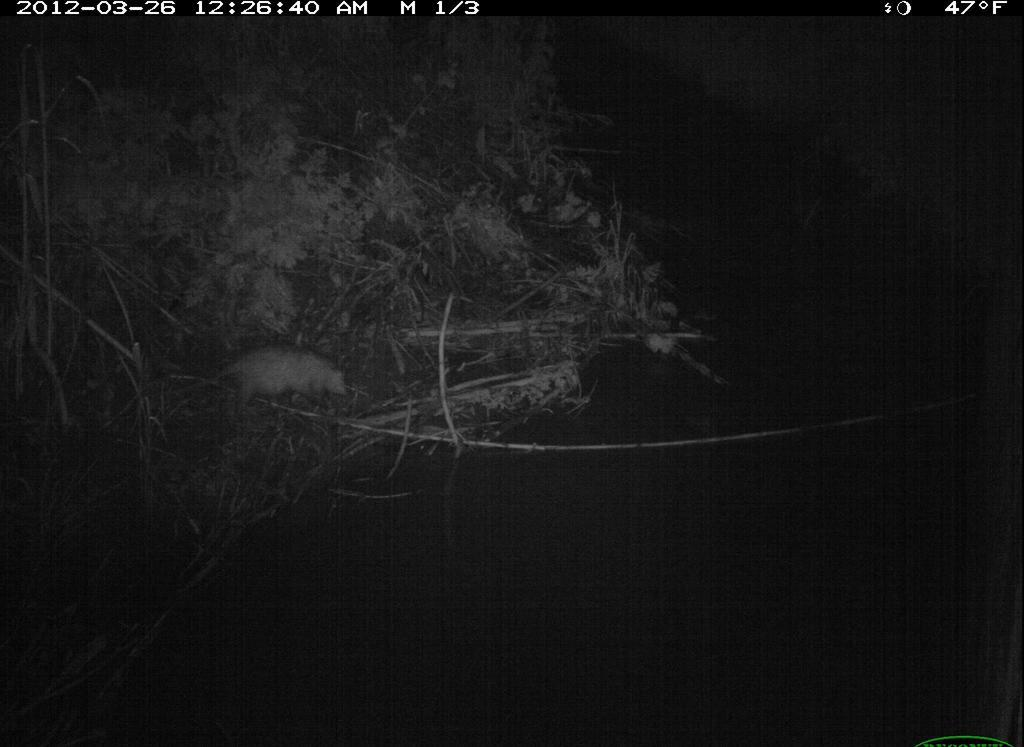opossum: (181, 338, 353, 417)
